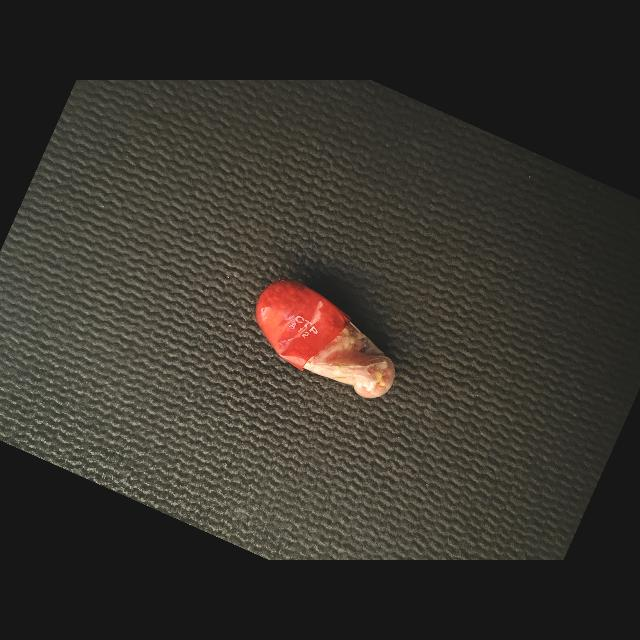Defective Capsule: (256, 281, 395, 399)
